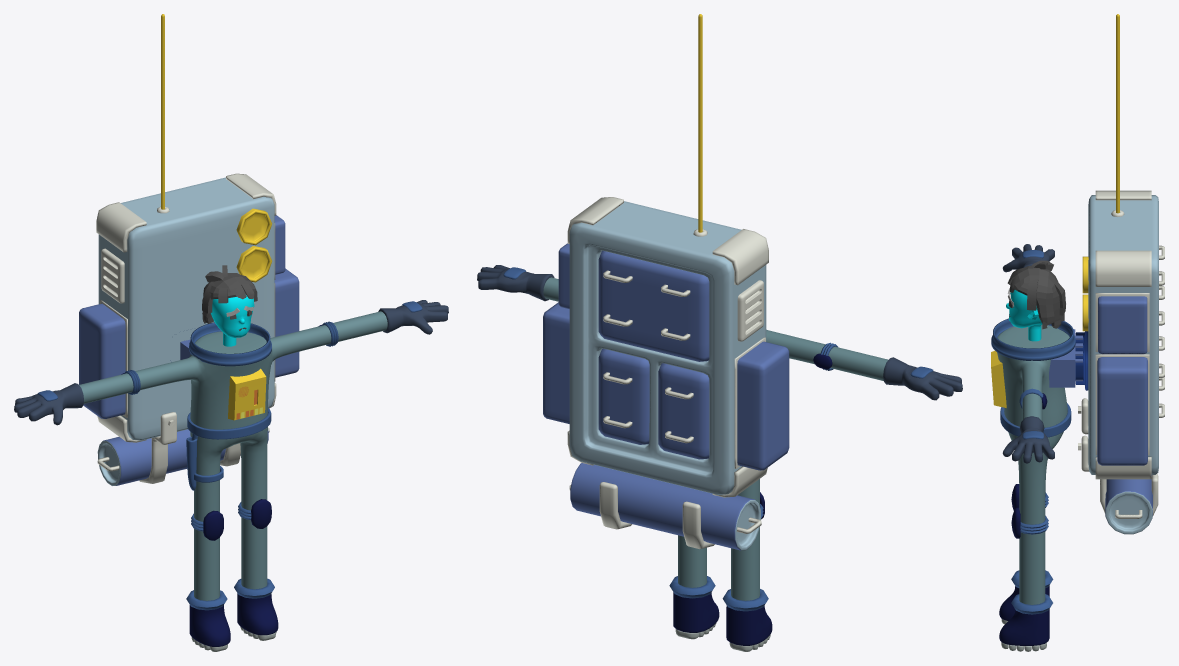
Rendered from squire3.fbx.
The picture shows the model from 3 angles, left to right: view 1: azimuth 30°, elevation 25°; view 2: azimuth 150°, elevation 25°; view 3: azimuth 270°, elevation 25°; orthographic projection. The views are drawn at different scales.
Parts seen in each view (by area): view 1: polySurface58, body, polySurface68, polySurface73, polySurface61, polySurface52, chest_pack, polySurface48, polySurface64, polySurface15, left_glove, polySurface74 (+8 smaller); view 2: polySurface58, polySurface57, body, polySurface73, polySurface68, polySurface56, polySurface55, polySurface61, polySurface64, polySurface48, left_glove, polySurface67 (+5 smaller); view 3: body, polySurface58, polySurface61, polySurface60, polySurface73, polySurface59, pCube16, polySurface52, left_glove, pack_mount, polySurface15, polySurface71 (+12 smaller).
Part boxes in pixels (x1,y1,x2,y2): polySurface58: [98, 177, 274, 440]; body: [79, 311, 387, 646]; polySurface68: [79, 303, 125, 418]; polySurface73: [97, 429, 268, 485]; polySurface61: [274, 268, 299, 377]; polySurface52: [189, 322, 271, 366]; chest_pack: [228, 368, 266, 420]; polySurface48: [14, 383, 83, 425]; polySurface64: [96, 202, 146, 252]; polySurface15: [211, 295, 254, 346]; left_glove: [378, 300, 448, 334]; polySurface74: [139, 412, 176, 483]; polySurface58: [569, 201, 766, 494]; polySurface57: [598, 250, 709, 361]; body: [543, 277, 888, 645]; polySurface73: [570, 463, 761, 550]; polySurface68: [737, 341, 789, 470]; polySurface56: [658, 363, 709, 459]; polySurface55: [598, 348, 649, 444]; polySurface61: [543, 302, 569, 423]; polySurface64: [712, 229, 768, 285]; polySurface48: [883, 357, 962, 400]; left_glove: [477, 265, 554, 301]; polySurface67: [737, 280, 763, 341]; body: [997, 325, 1069, 645]; polySurface58: [1088, 195, 1158, 474]; polySurface61: [1097, 357, 1147, 465]; polySurface60: [1098, 296, 1147, 354]; polySurface73: [1105, 475, 1152, 534]; polySurface59: [1095, 250, 1151, 286]; pCube16: [1007, 266, 1065, 329]; polySurface52: [991, 318, 1075, 360]; left_glove: [1002, 416, 1054, 463]; pack_mount: [1049, 329, 1082, 387]; polySurface15: [1006, 290, 1042, 341]; polySurface71: [1095, 456, 1151, 479].
Bounding box in the file's own units: 33.89 × 44.89 × 11.64.
